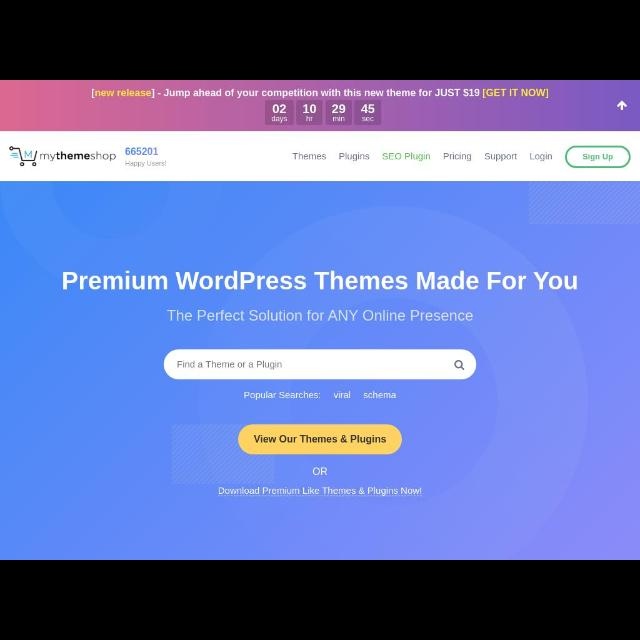icon: (455, 360, 465, 370), (617, 100, 627, 110)
image: (9, 146, 116, 166)
input: (164, 348, 476, 379)
panel: (1, 81, 640, 131)
text: (62, 271, 578, 291), (91, 88, 549, 99), (166, 310, 474, 322), (218, 487, 422, 497), (254, 434, 386, 444), (245, 392, 398, 400), (178, 360, 282, 370), (382, 152, 430, 162), (484, 152, 518, 162), (272, 104, 288, 124), (340, 152, 370, 162), (583, 152, 613, 162), (360, 104, 376, 122), (443, 152, 471, 162), (292, 152, 326, 160), (125, 147, 158, 155), (303, 104, 317, 122), (126, 161, 166, 167), (529, 152, 553, 162), (332, 105, 346, 122), (313, 466, 327, 476)
textbutton: (238, 425, 402, 455), (565, 146, 631, 168)
toolbar: (1, 131, 640, 181)
